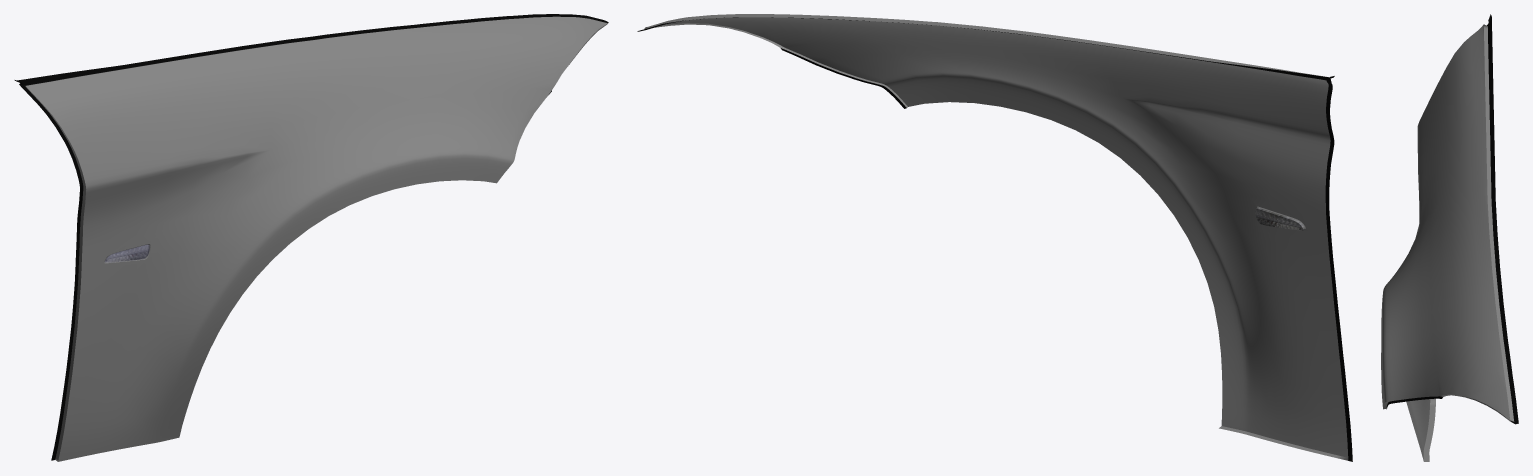
3 renders of one model, left to right at view 1: azimuth 30°, elevation 25°; view 2: azimuth 150°, elevation 25°; view 3: azimuth 270°, elevation 25°, orthographic. The views are drawn at different scales.
Parts seen in each view (by area): view 1: X4131_141B_R_X4131_141B_R_1_DaS, X4131_141B_R_X4131_141B_R_4_D, X4131_141B_R_X4131_141B_R_1_DaS_E; view 2: X4131_141B_R_X4131_141B_R_1_DaS, X4131_141B_R_X4131_141B_R_1_DaS_E, X4131_141B_R_X4131_141B_R_4_D; view 3: X4131_141B_R_X4131_141B_R_1_DaS, X4131_141B_R_X4131_141B_R_1_DaS_E, X4131_141B_R_X4131_141B_R_4_D.
Boxes of the visible parts, x1,y1,x2,y2 form: X4131_141B_R_X4131_141B_R_1_DaS: (26,16,607,461); X4131_141B_R_X4131_141B_R_4_D: (14,14,608,460); X4131_141B_R_X4131_141B_R_1_DaS_E: (25,21,607,461); X4131_141B_R_X4131_141B_R_1_DaS: (664,14,1348,457); X4131_141B_R_X4131_141B_R_1_DaS_E: (644,14,1348,460); X4131_141B_R_X4131_141B_R_4_D: (637,17,1352,461); X4131_141B_R_X4131_141B_R_1_DaS: (1381,25,1509,461); X4131_141B_R_X4131_141B_R_1_DaS_E: (1383,24,1514,461); X4131_141B_R_X4131_141B_R_4_D: (1386,14,1518,424).
Size of the model in its own units: 134 by 77.68 by 25.49.
